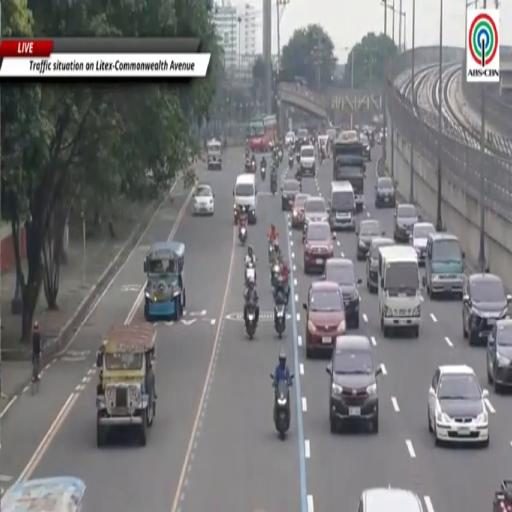bus: (247, 116, 278, 152)
car: (327, 335, 381, 433), (428, 365, 489, 445), (462, 274, 511, 345), (303, 281, 345, 358), (324, 259, 362, 328), (487, 318, 511, 393), (303, 221, 335, 274), (357, 488, 423, 511), (367, 237, 394, 293), (356, 219, 385, 261), (394, 204, 420, 243), (412, 222, 435, 264), (304, 197, 328, 226), (375, 176, 396, 207), (194, 184, 214, 215), (292, 194, 309, 228), (282, 180, 300, 211), (493, 480, 511, 511), (299, 144, 315, 177), (360, 135, 371, 162), (296, 128, 309, 147), (285, 132, 295, 147)
jeepney: (96, 324, 155, 446), (144, 242, 185, 321), (2, 477, 85, 511), (207, 139, 222, 170)
motorcycle: (274, 374, 294, 440), (273, 274, 290, 306), (274, 304, 285, 339), (246, 304, 256, 340), (271, 262, 280, 289), (245, 262, 255, 286), (239, 224, 247, 246), (295, 170, 302, 193), (271, 173, 277, 195), (268, 243, 274, 264), (234, 204, 239, 225), (261, 166, 266, 181), (319, 151, 324, 165), (288, 156, 293, 169), (245, 162, 251, 172), (251, 162, 256, 173), (278, 149, 282, 162), (296, 153, 300, 163)
truck: (333, 133, 366, 212)
